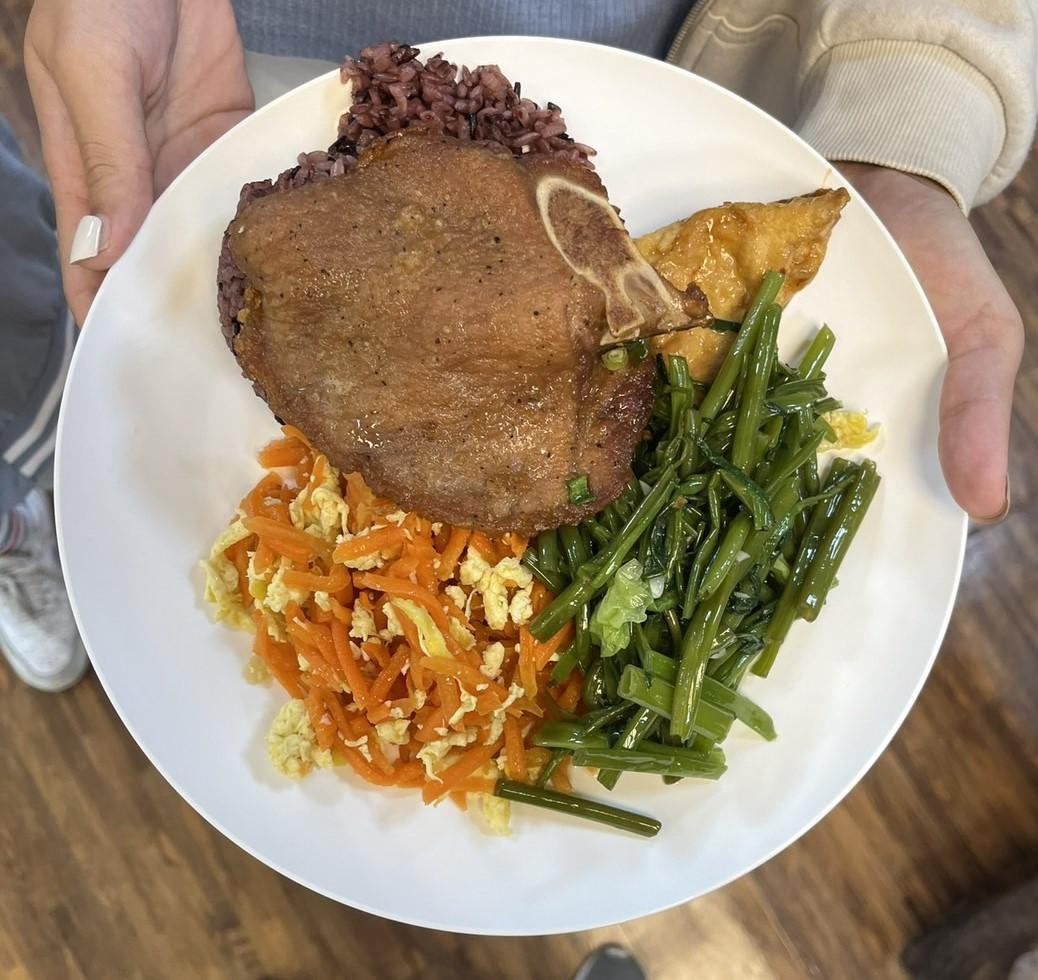big fried chicken leg: (40, 20, 982, 938)
braised fish fillet: (190, 442, 571, 820), (553, 320, 862, 785), (631, 168, 852, 374)
braised pork: (206, 126, 676, 518)
